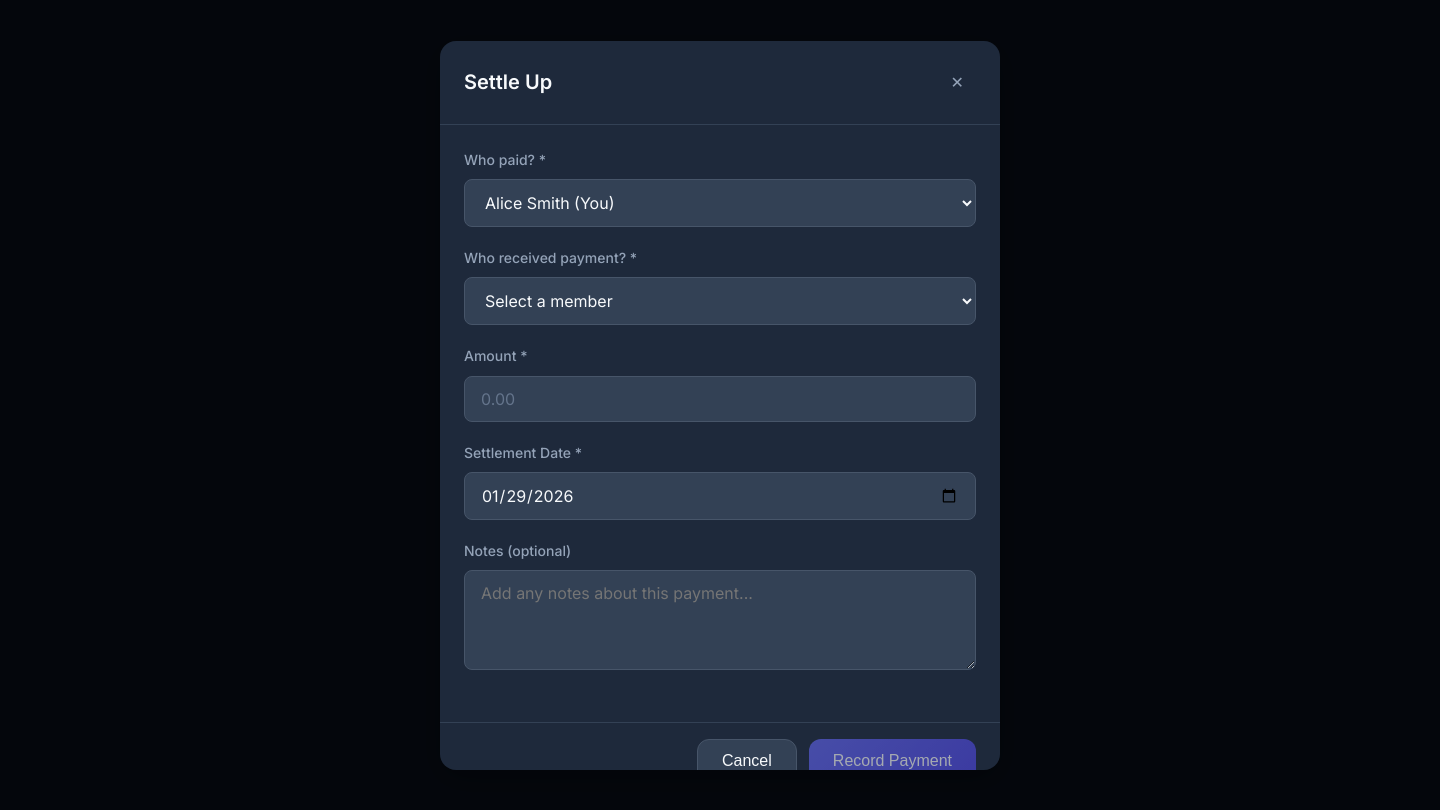
Test case: SettleUpModal › enables submit button when all required fields are filled
The width and height of the screenshot is (1440, 810).
Select "Bob Jones" in the dropdown labelled "Who received payment? *" at (720, 301), box [464,277,976,325]
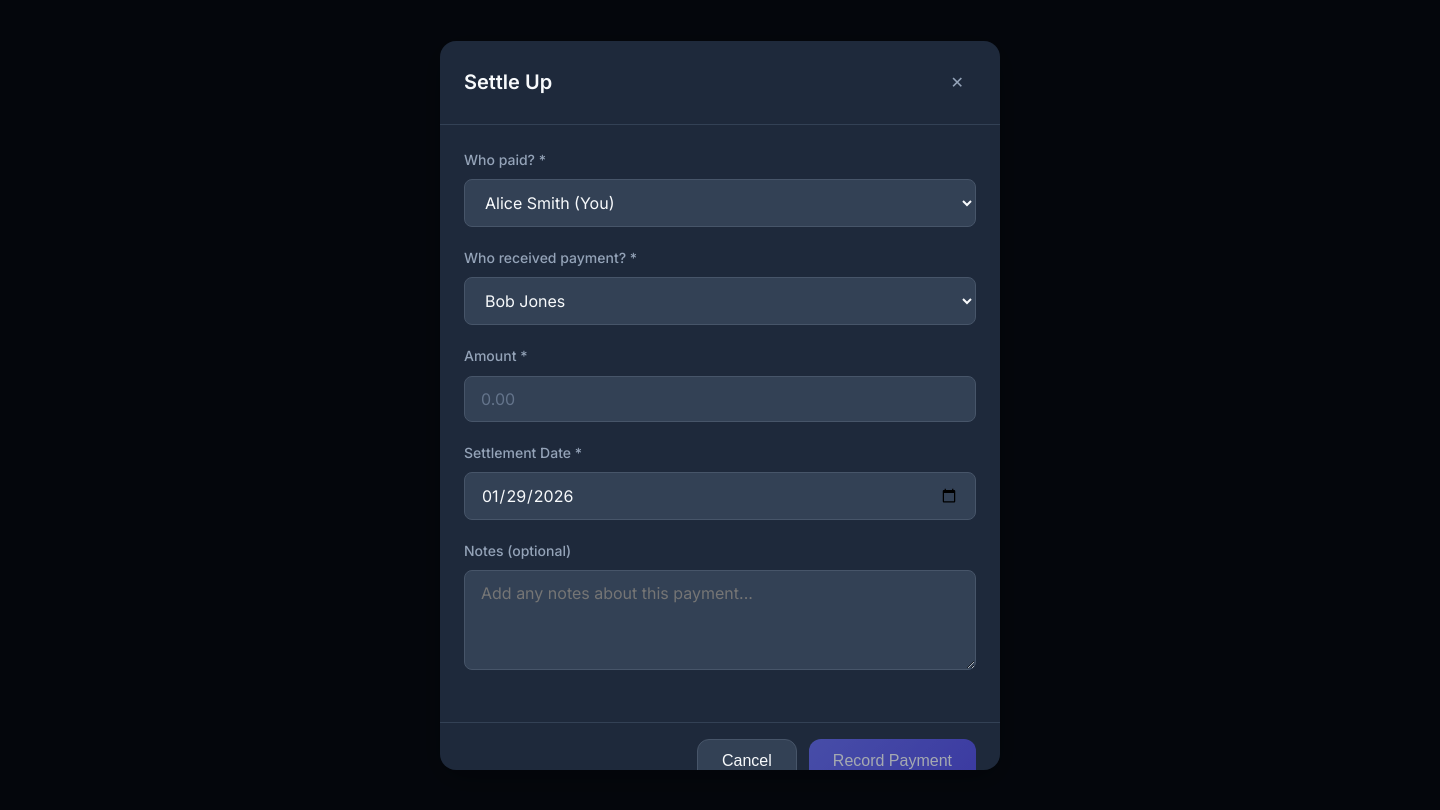
Type "50" into the number field labelled "Amount *" at (720, 399), box [464,376,976,422]
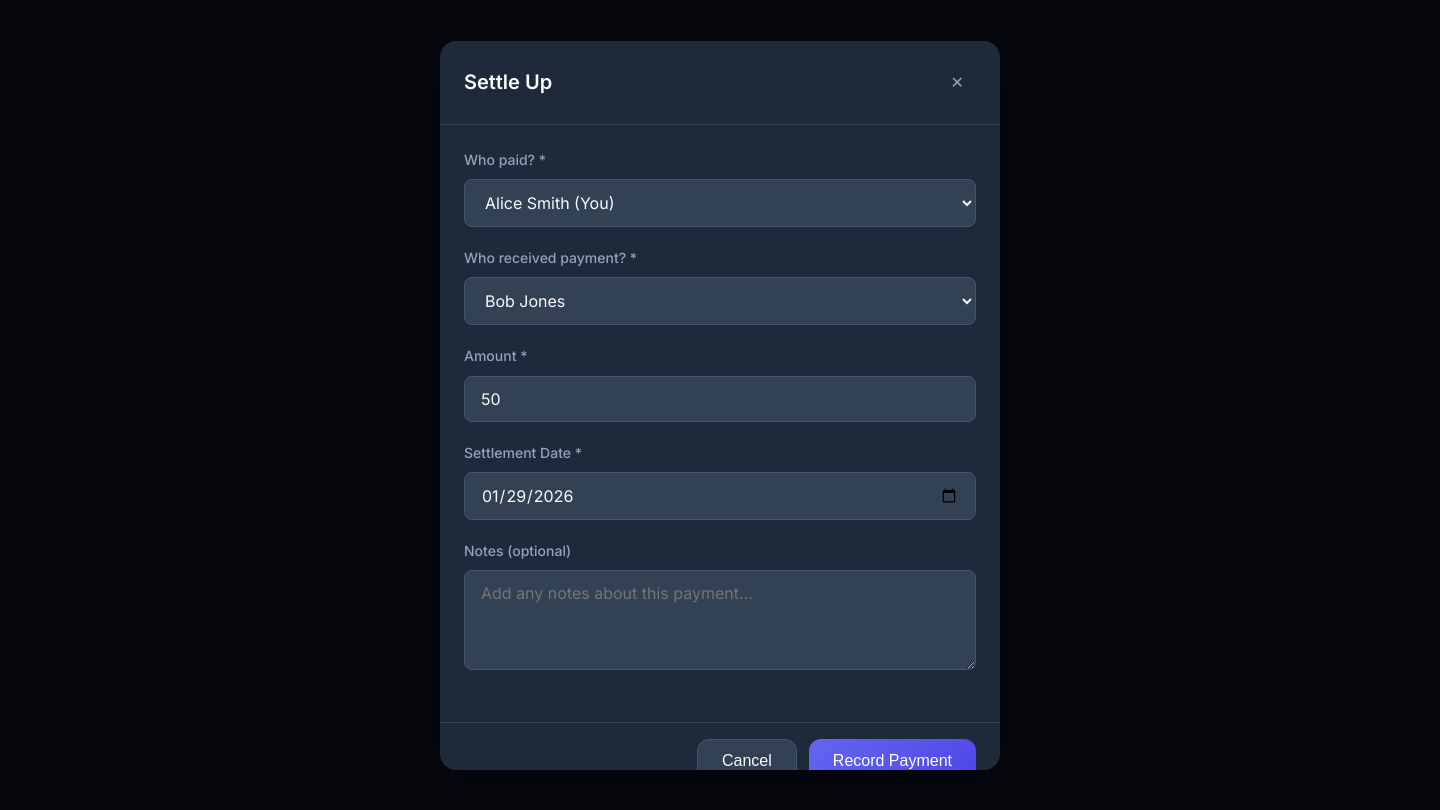
Now the button "Record Payment" is enabled, box [809,739,976,770]
